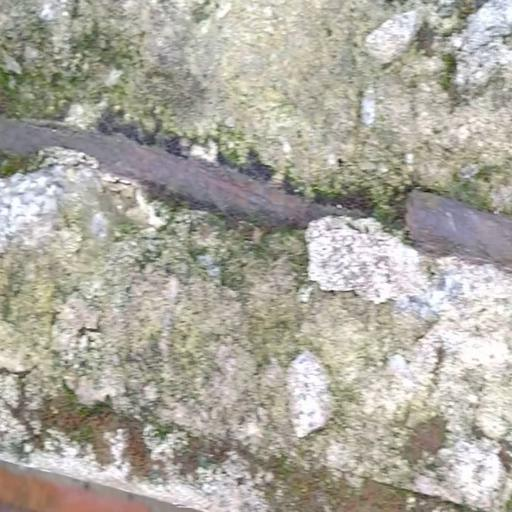spalling: (4, 0, 512, 512)
